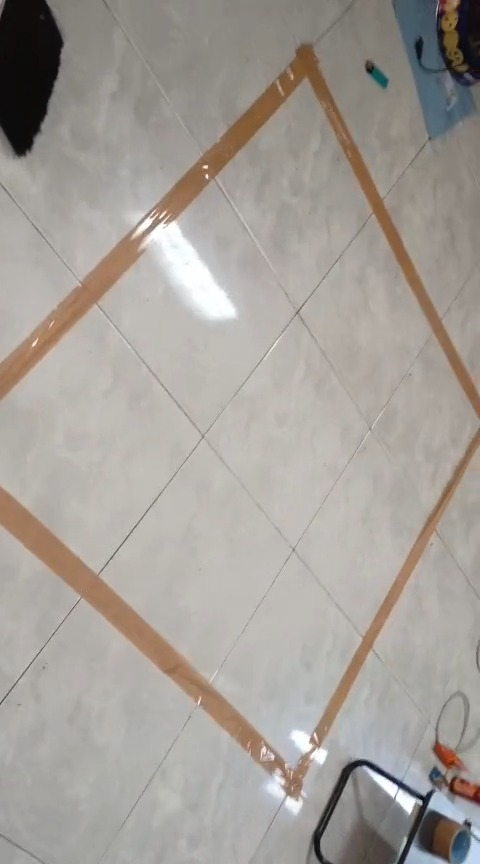floor marking: (0, 44, 479, 417), (0, 431, 479, 796)
